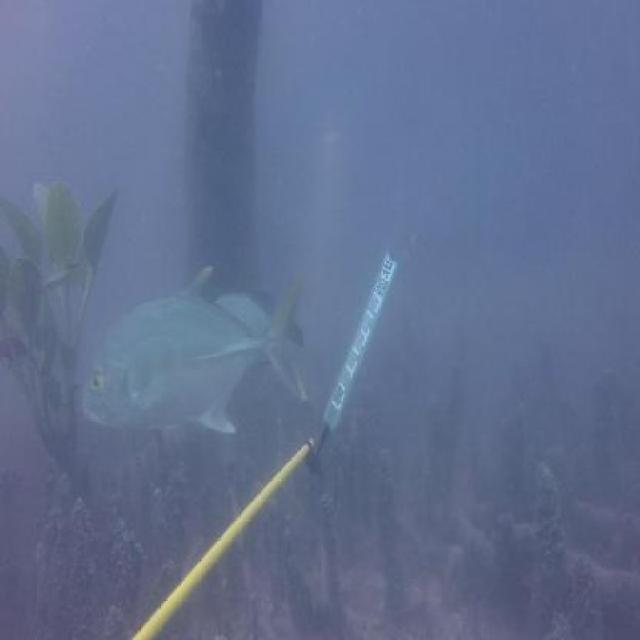Caranx: (79, 258, 312, 439)
acanthopagrus_palmaris: (214, 278, 306, 356)
